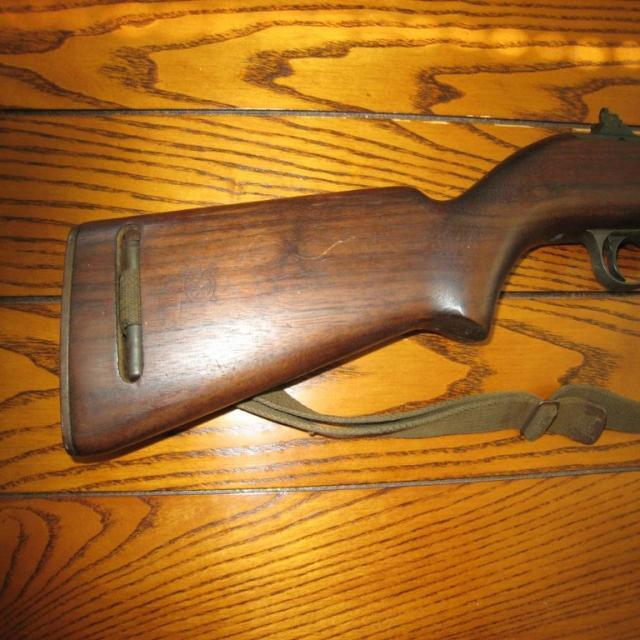weapon: (56, 110, 640, 463)
